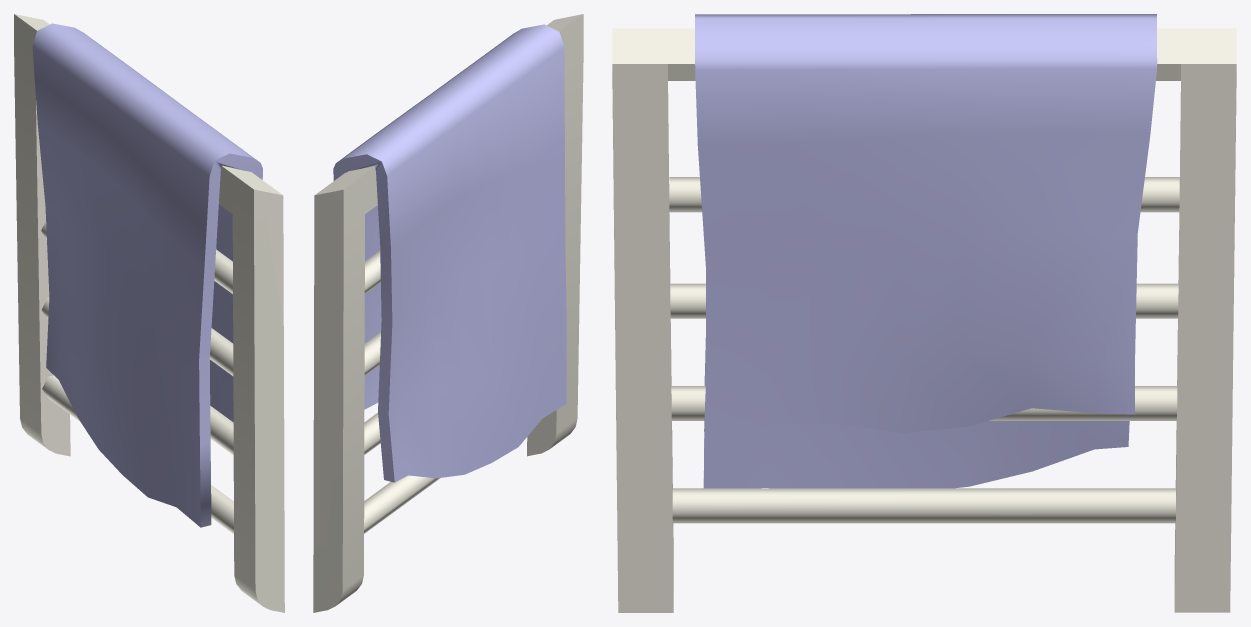
The model's file is PorteServiette.fbx.
The picture shows the model from 3 angles, left to right: view 1: azimuth 30°, elevation 25°; view 2: azimuth 150°, elevation 25°; view 3: azimuth 270°, elevation 25°; orthographic projection. The views are drawn at different scales.
Visible parts, largest first — view 1: serviette; view 2: serviette; view 3: serviette.
Boxes of the visible parts, x1=… form: serviette: x1=14, y1=14, x2=284, y2=612; serviette: x1=313, y1=14, x2=583, y2=612; serviette: x1=612, y1=14, x2=1236, y2=612.
Size of the model in its own units: 12.34 by 72.64 by 74.23.
